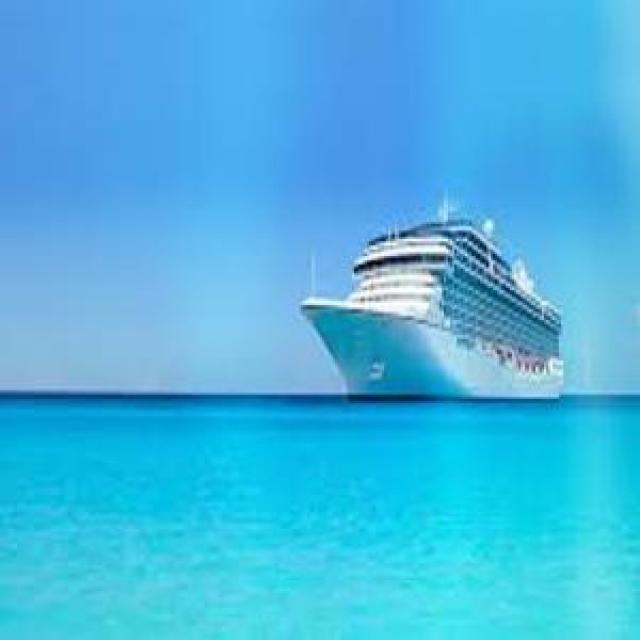passenger ship: (294, 190, 571, 405)
